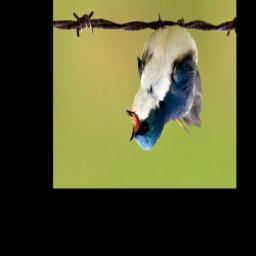Swallow: (123, 15, 203, 154)
